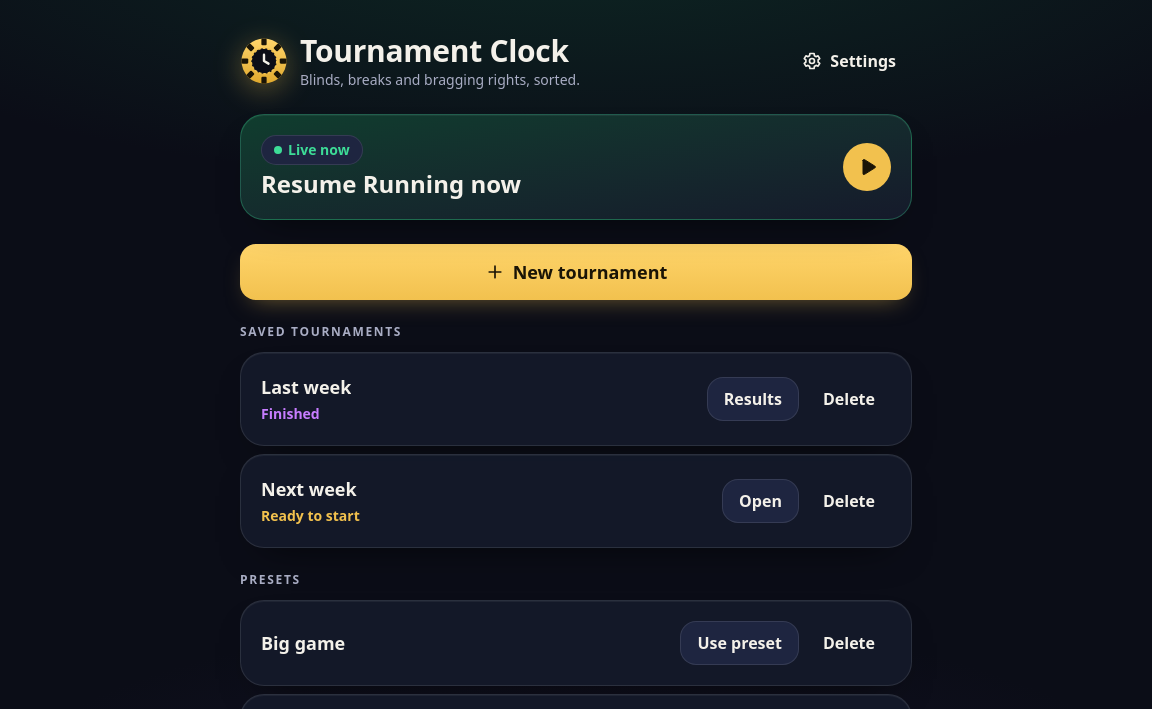
Test: home library › deletes a tournament only after confirming
Click the button with aria-label "Delete: Last week": (849, 398) [807,376,891,420]
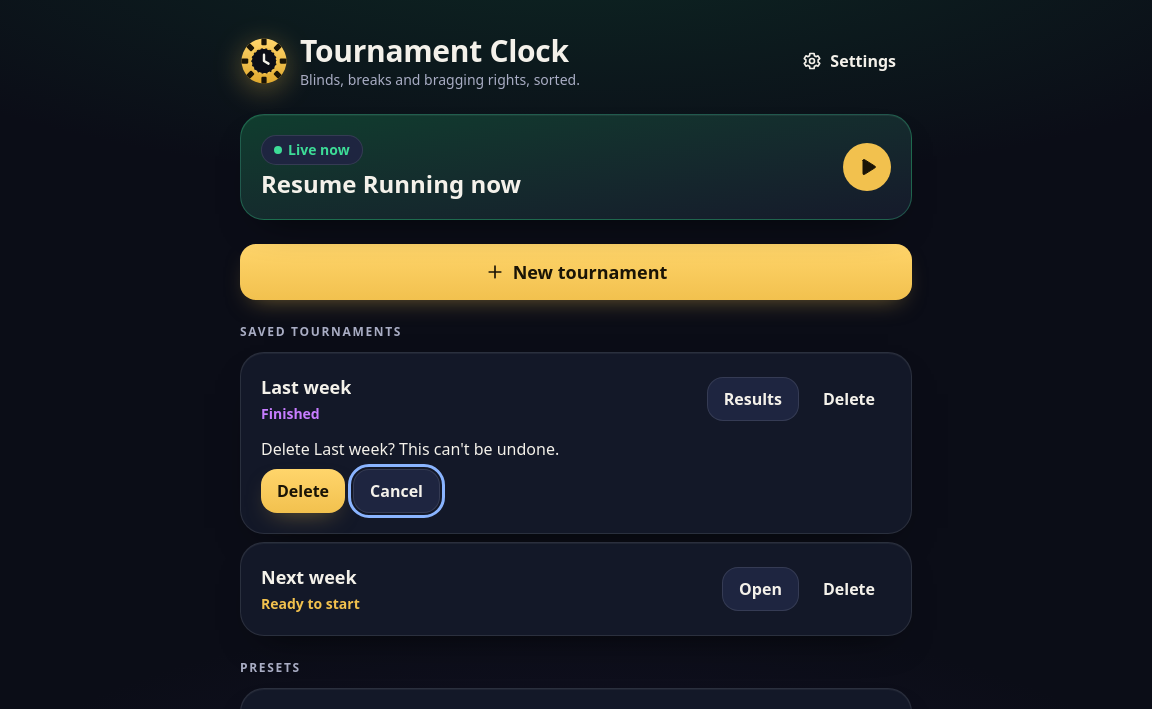
Click the button "Cancel": (396, 490) [353,468,440,512]
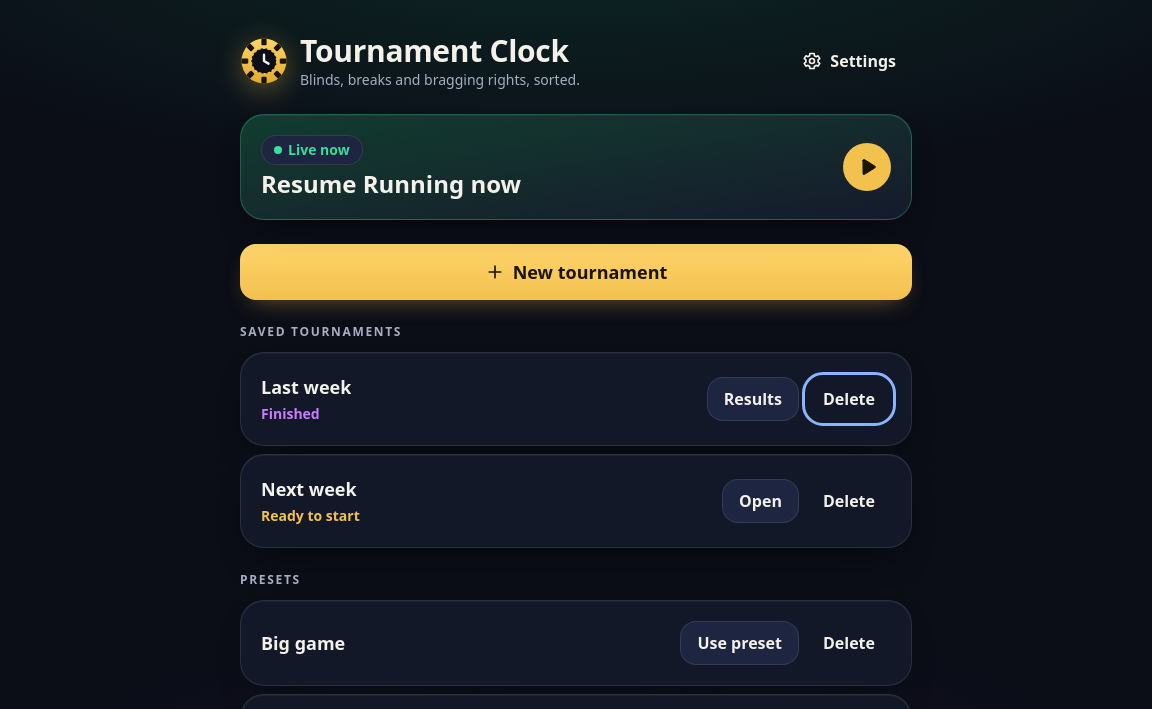
Click the button with aria-label "Delete: Last week": (849, 398) [807,376,891,420]
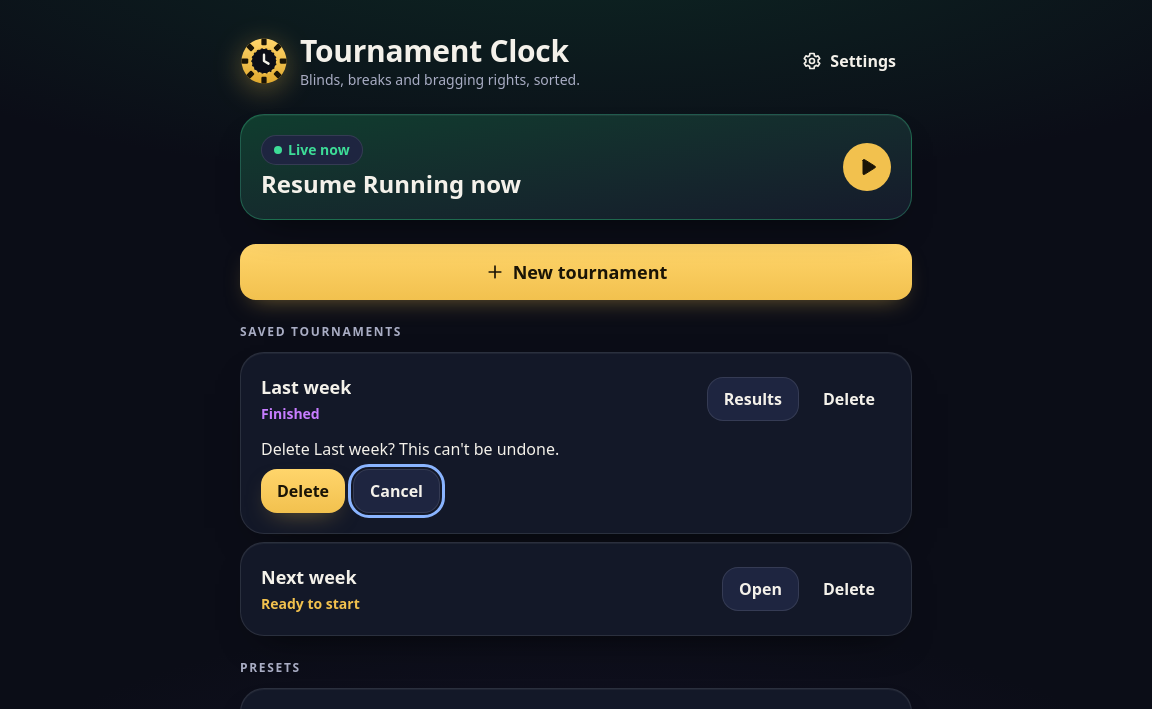
Click the button "Delete" below "Delete Last week? This can't be undone.": (303, 490) [261,468,345,512]
(page scrolled)
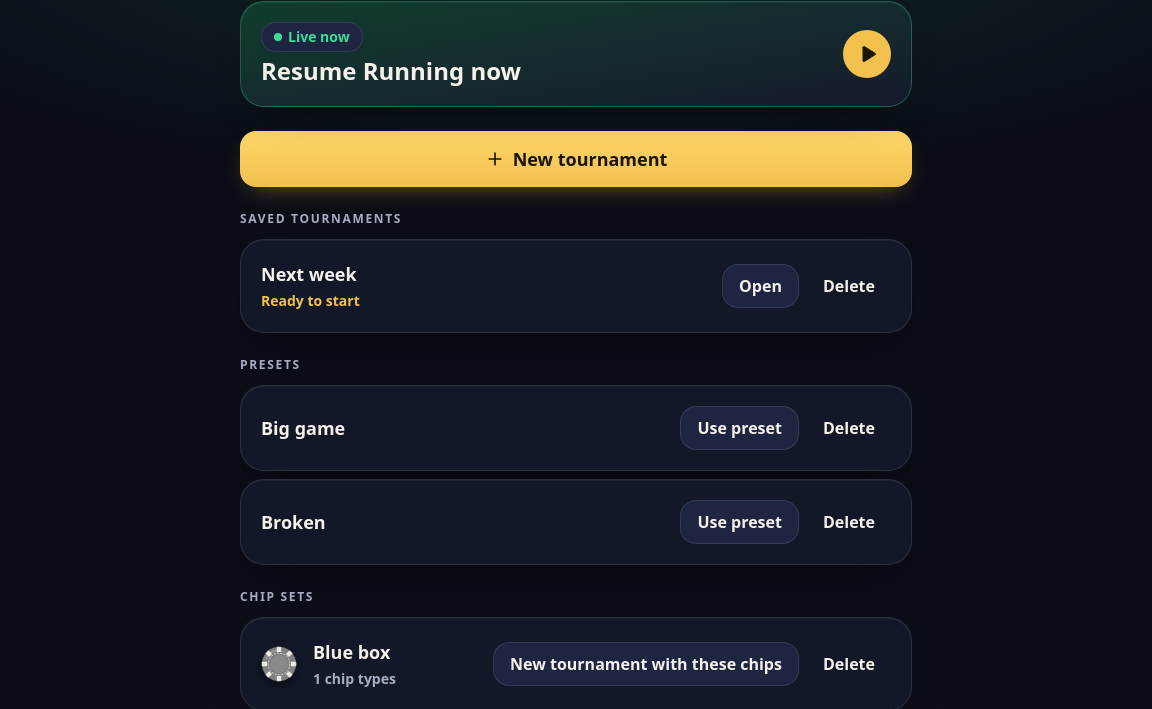
Check: the text "Last week" is gone
